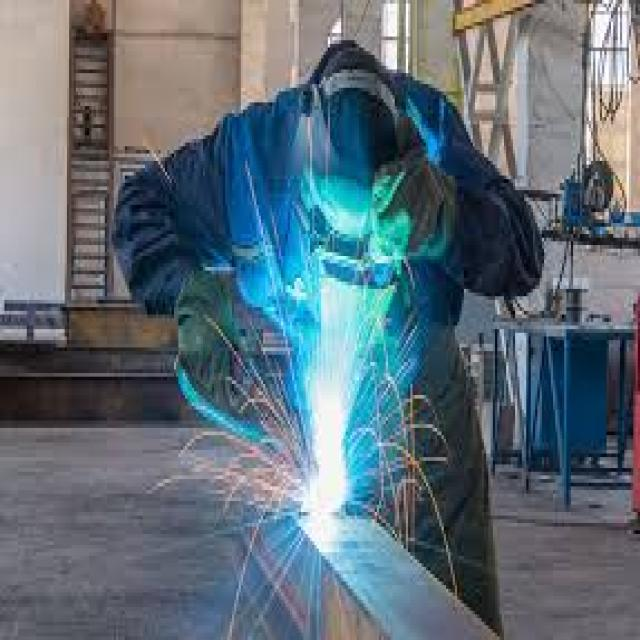welding: (311, 438, 348, 517)
